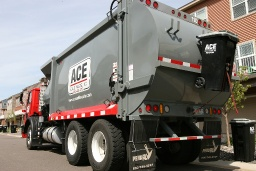truck: (24, 1, 235, 171)
